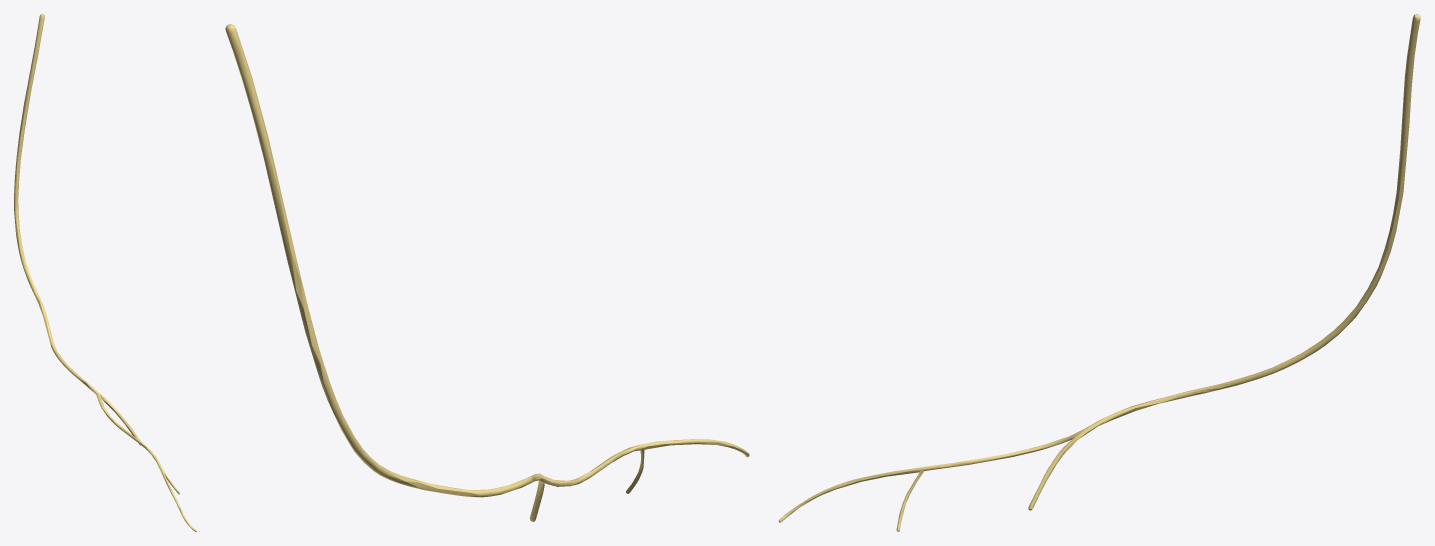
Rendered from fma52804_fj3940.glb.
3 views of the same model, side by side, from view 1: azimuth 30°, elevation 25°; view 2: azimuth 150°, elevation 25°; view 3: azimuth 270°, elevation 25° (orthographic). The views are drawn at different scales.
Visible parts, largest first — view 1: FMA52804_FJ3940; view 2: FMA52804_FJ3940; view 3: FMA52804_FJ3940.
Boxes of the visible parts, x1=… form: FMA52804_FJ3940: x1=14, y1=14, x2=196, y2=531; FMA52804_FJ3940: x1=225, y1=24, x2=749, y2=521; FMA52804_FJ3940: x1=778, y1=14, x2=1420, y2=531.
Bounding box in the file's own units: 0.00648 × 0.0354 × 0.0376.
